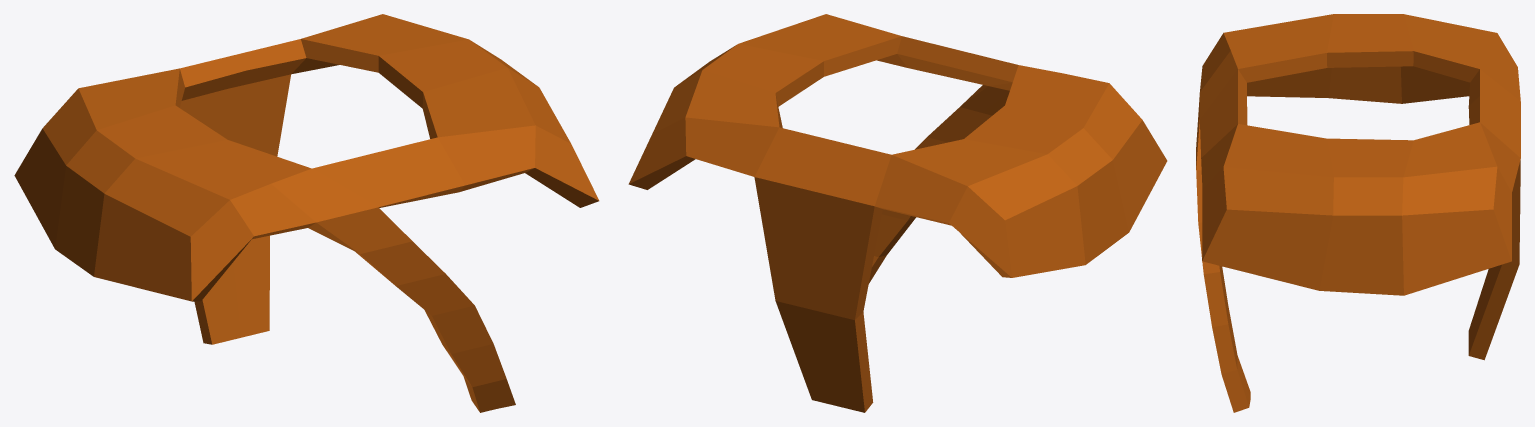
File: Character LeatherTop.fbx
3 renders of one model, left to right at view 1: azimuth 30°, elevation 25°; view 2: azimuth 150°, elevation 25°; view 3: azimuth 270°, elevation 25°, orthographic. The views are drawn at different scales.
Visible parts, largest first — view 1: LeatherTop; view 2: LeatherTop; view 3: LeatherTop.
Part boxes in pixels (x1,y1,x2,y2): LeatherTop: (14, 14, 599, 412); LeatherTop: (628, 14, 1167, 412); LeatherTop: (1196, 14, 1520, 412).
Bounding box in the file's own units: 174 × 102 × 117.
